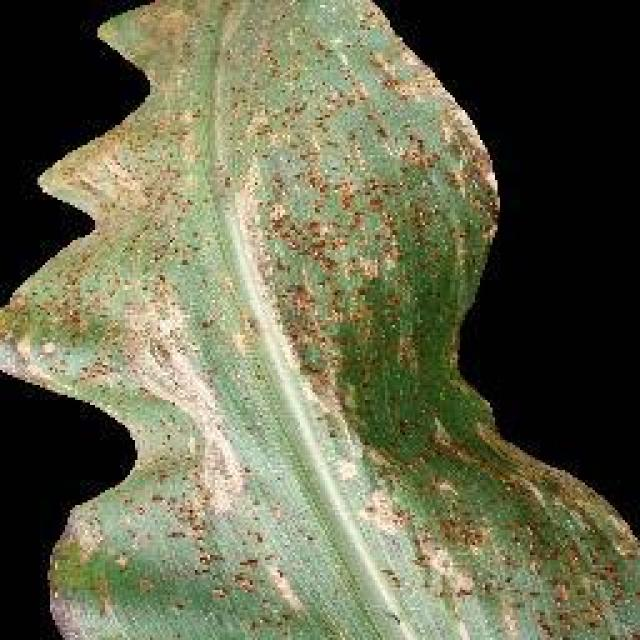Corn Common Rust: (82, 48, 525, 597)
